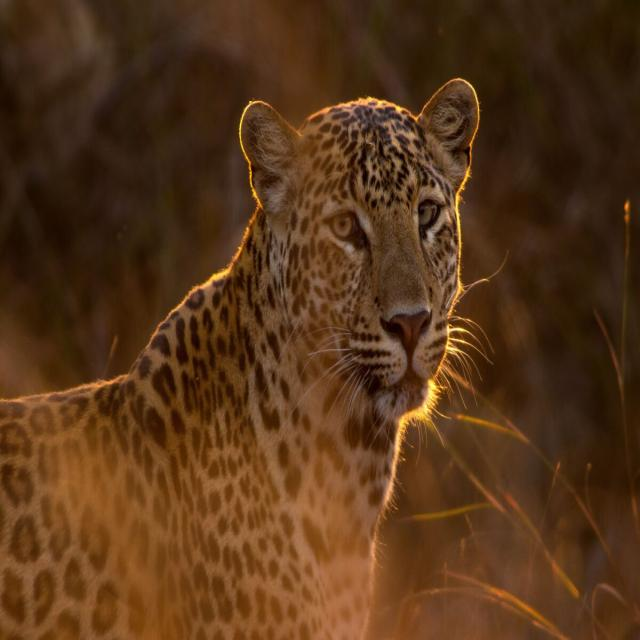Leopard: (1, 76, 478, 640)
